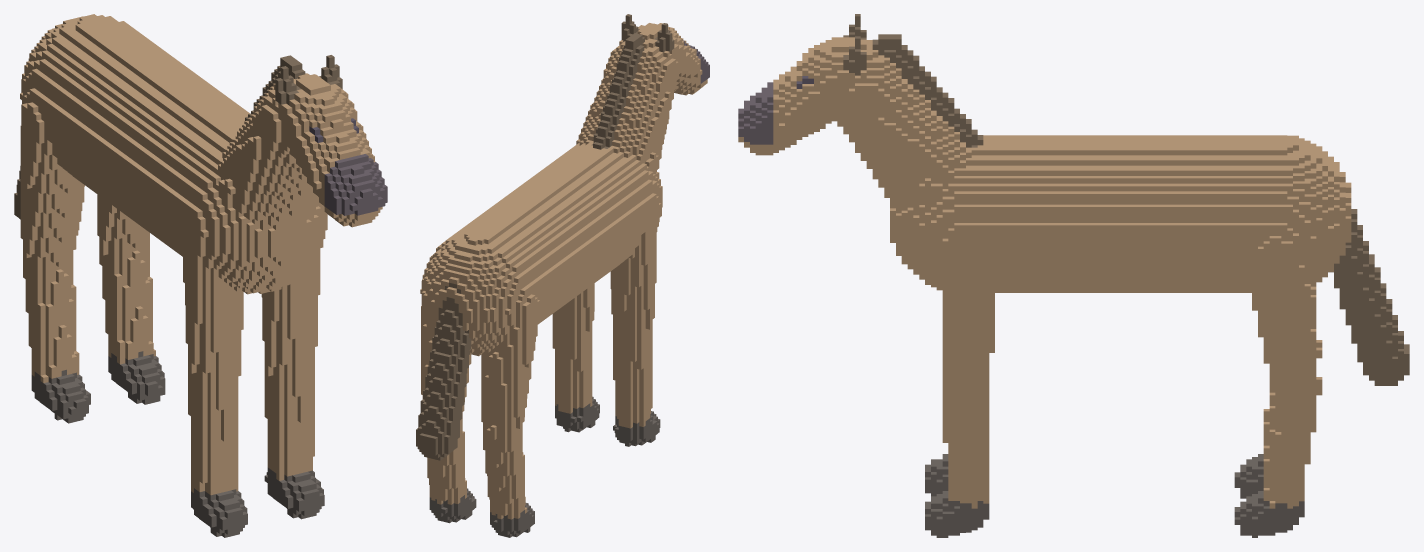
The model's file is horse.glb.
The picture shows the model from 3 angles, left to right: view 1: azimuth 30°, elevation 25°; view 2: azimuth 150°, elevation 25°; view 3: azimuth 270°, elevation 25°; orthographic projection. The views are drawn at different scales.
Visible parts, largest first — view 1: item; view 2: item; view 3: item.
Part boxes in pixels (x1=…): item: x1=14, y1=14, x2=387, y2=537; item: x1=416, y1=14, x2=709, y2=537; item: x1=738, y1=14, x2=1409, y2=537.
Size of the model in its own units: 26 by 92 by 115.
